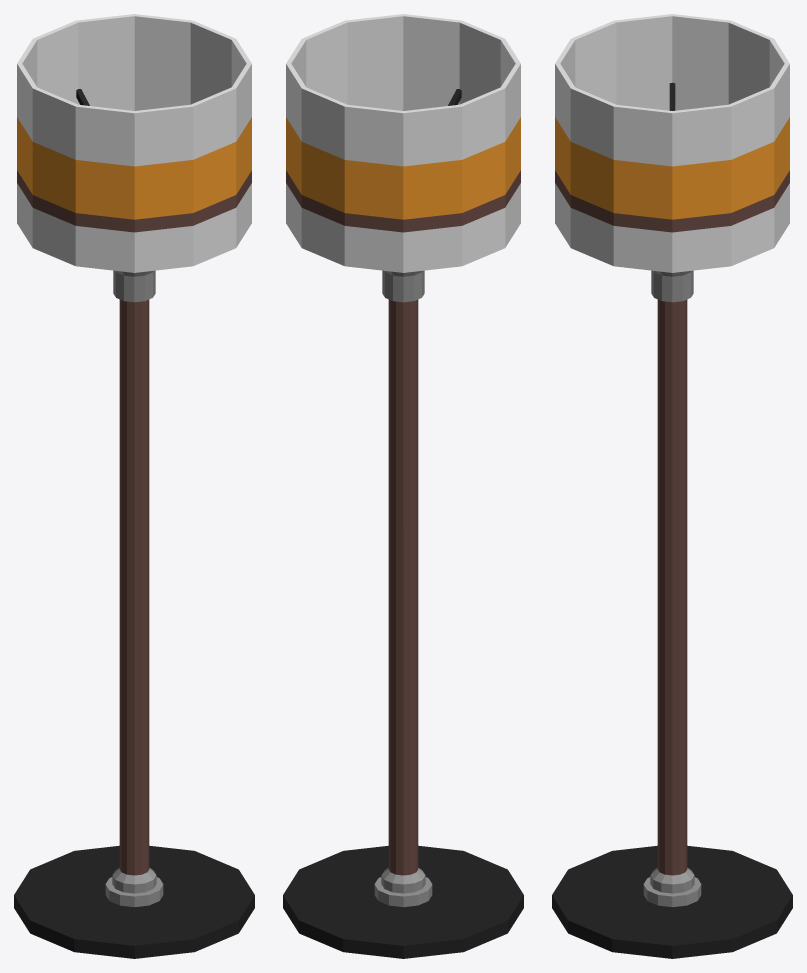
File: Lounge Lamp.glb
3 renders of one model, left to right at view 1: azimuth 30°, elevation 25°; view 2: azimuth 150°, elevation 25°; view 3: azimuth 270°, elevation 25°, orthographic.
Visible parts, largest first — view 1: Lamp; view 2: Lamp; view 3: Lamp.
Part boxes in pixels (left/top/right/bottom): Lamp: left=14, top=14, right=254, bottom=958; Lamp: left=283, top=14, right=523, bottom=958; Lamp: left=552, top=14, right=792, bottom=958.
Size of the model in its own units: 0.4679 by 1.81 by 0.4679.
Materials: 1 (1 with a texture image).
